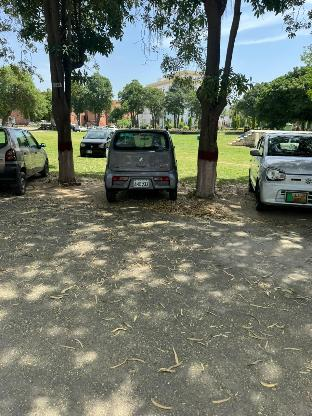car: (98, 124, 186, 206), (246, 129, 312, 209), (0, 119, 51, 197)
tree: (31, 0, 108, 187), (185, 0, 243, 211)
